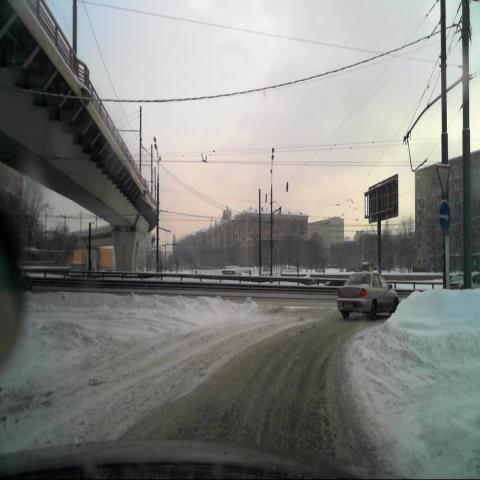4_1_2_1: (439, 200, 450, 233)
